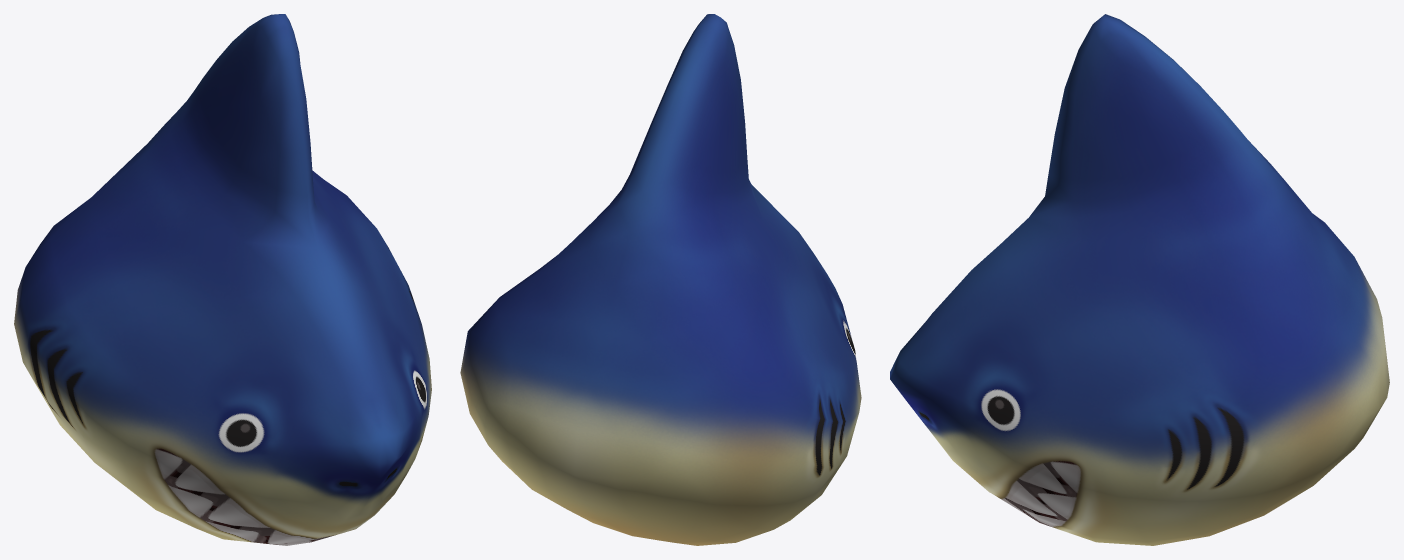
The model's file is shark.FBX.
3 views of the same model, side by side, from view 1: azimuth 30°, elevation 25°; view 2: azimuth 150°, elevation 25°; view 3: azimuth 270°, elevation 25° (orthographic). The views are drawn at different scales.
Parts seen in each view (by area): view 1: shark; view 2: shark; view 3: shark.
Boxes of the visible parts, <box> form: shark: <box>14,14,431,545</box>; shark: <box>460,14,861,545</box>; shark: <box>890,14,1389,545</box>.
Size of the model in its own units: 31.5 by 43.76 by 38.84.
